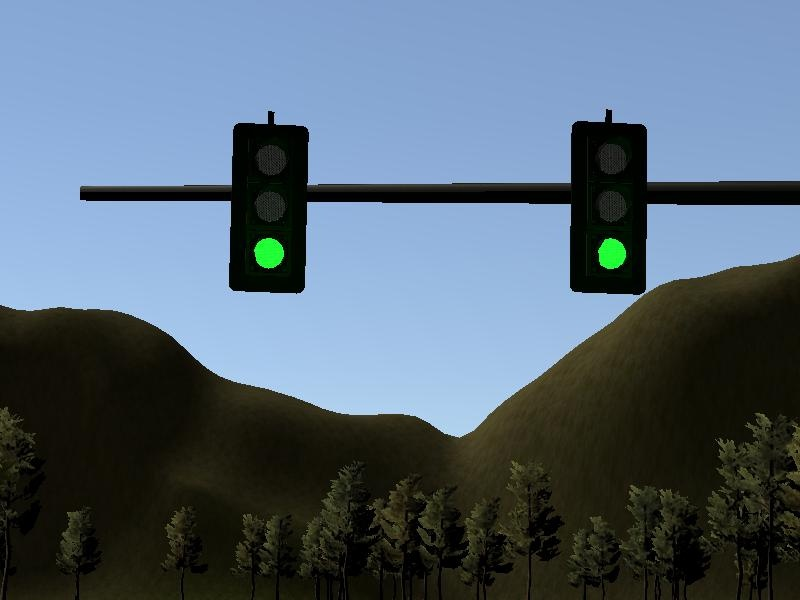traffic_light_green: (173, 108, 800, 296)
